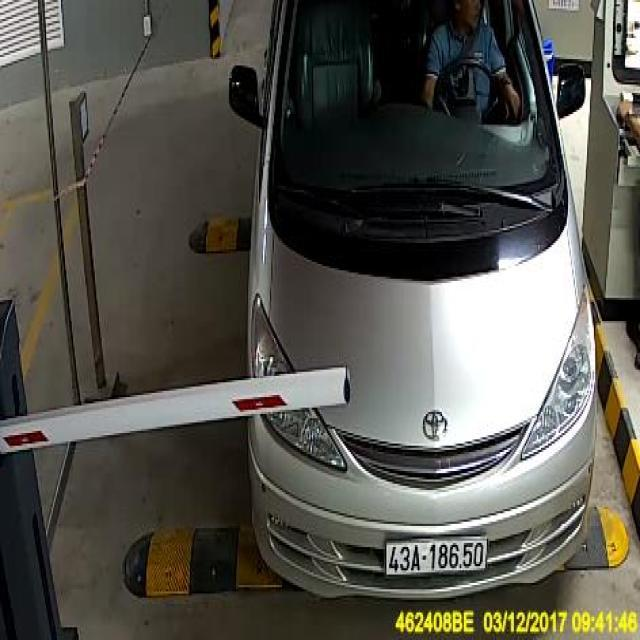bien_so_oto: (384, 536, 488, 578)
